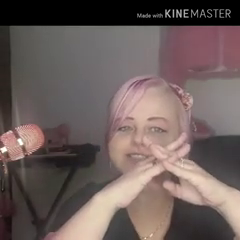W: (116, 123, 221, 217)
